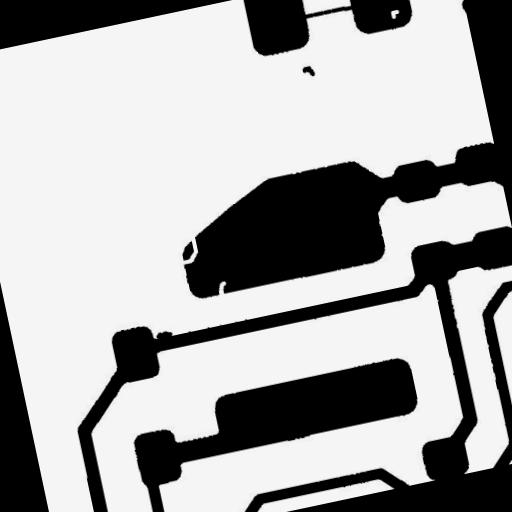copper: (292, 56, 323, 86)
mousebite: (207, 272, 237, 304)
open: (166, 224, 208, 274)
pin-hole: (381, 0, 408, 27)
short: (292, 0, 367, 29)
spur: (146, 320, 180, 348)
